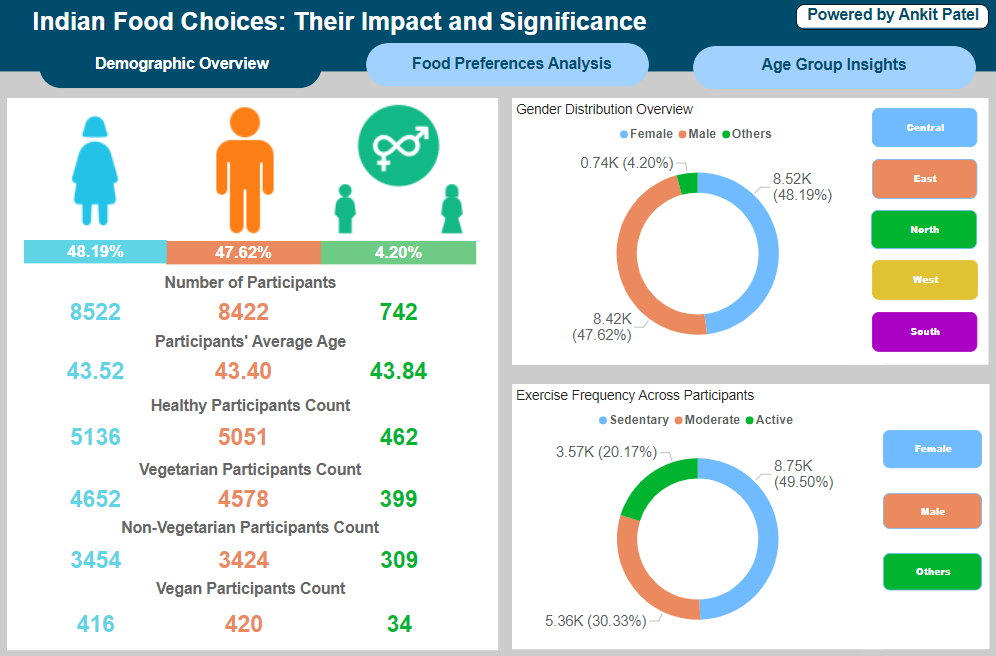

Layout of this report page (visuals, bound fields, positions):
{"tool":"powerbi","page":{"name":"Demographic Overview ","canvas":[1280,850],"ordinal":0},"visuals":[{"type":"shape","box":[1104.8,492.9,164.7,340.4],"z":0},{"type":"shape","box":[10.3,125.2,629.7,708.4],"z":1000},{"type":"shape","box":[0,0,1280,91.6],"z":2000},{"type":"actionButton","title":"Indian Food Choices: Their Impact and Significance","box":[0,8.7,873,48],"z":3000},{"type":"card","fields":{"Values":["Meausres Table.Male %"]},"box":[214.2,308.4,198.7,29.7],"z":4000},{"type":"image","box":[214.2,125.2,198.7,184.5],"z":5000},{"type":"image","box":[32.3,123.9,181.9,184.5],"z":6000},{"type":"image","box":[412.9,123.9,198.7,184.5],"z":7000},{"type":"card","fields":{"Values":["Meausres Table.Feamle %"]},"box":[32.1,307.7,182.6,30.4],"z":8000},{"type":"card","fields":{"Values":["Meausres Table.Others %"]},"box":[412.9,308.4,198.7,29.7],"z":9000},{"type":"actionButton","title":"Number of Participants","box":[33.5,351,578.1,23.2],"z":10000},{"type":"card","fields":{"Values":["Meausres Table.Total Others"]},"box":[412.9,383.2,198.7,32.3],"z":11000},{"type":"card","fields":{"Values":["Meausres Table.Total Male"]},"box":[214.2,383.2,198.7,32.3],"z":12000},{"type":"card","fields":{"Values":["Meausres Table.Total Female"]},"box":[32.3,383.2,181.9,32.3],"z":13000},{"type":"actionButton","title":"Participants'' Average Age","box":[33.5,427.1,578.1,24.5],"z":14000},{"type":"card","fields":{"Values":["Meausres Table.Average Male Age"]},"box":[213.9,458.3,198.6,34.9],"z":15000},{"type":"card","fields":{"Values":["Meausres Table.Average Others Age"]},"box":[412.5,458.3,198.6,34.9],"z":16000},{"type":"card","fields":{"Values":["Meausres Table.Average Female Age"]},"box":[33.8,458.3,180.1,34.9],"z":17000},{"type":"actionButton","title":"Healthy Participants Count","box":[33.3,508.9,577.8,24.4],"z":18000},{"type":"card","fields":{"Values":["Meausres Table.Male Healthy"]},"box":[214.7,542.8,197.8,33.8],"z":19000},{"type":"card","fields":{"Values":["Meausres Table.Female Healthy"]},"box":[32.1,542.8,182.6,33.8],"z":20000},{"type":"card","fields":{"Values":["Meausres Table.Others Healthy"]},"box":[412.6,542.8,199.5,33.8],"z":21000},{"type":"actionButton","title":"Vegetarian Participants Count","box":[32.3,591,579.4,24.5],"z":22000},{"type":"card","fields":{"Values":["Meausres Table.Female Vegetarian"]},"box":[33.8,622,180.1,33.8],"z":23000},{"type":"card","fields":{"Values":["Meausres Table.Male Vegetarian"]},"box":[213.9,622,198.6,33.8],"z":24000},{"type":"card","fields":{"Values":["Meausres Table.Others Vegetarian"]},"box":[412.5,622,198.6,33.8],"z":25000},{"type":"actionButton","title":"Non-Vegetarian Participants Count","box":[31.7,665.3,579.4,25.1],"z":26000},{"type":"card","fields":{"Values":["Meausres Table.Female Non-Vegetarian"]},"box":[33.8,698.3,180.9,38.9],"z":27000},{"type":"card","fields":{"Values":["Meausres Table.Male Non-Vegetarian"]},"box":[214.7,698.3,199.5,38.9],"z":28000},{"type":"card","fields":{"Values":["Meausres Table.Others Non-Vegetarian"]},"box":[414.3,698.3,197.8,38.9],"z":29000},{"type":"actionButton","title":"Vegan Participants Count","box":[33.8,744,578.3,25.4],"z":30000},{"type":"card","fields":{"Values":["Meausres Table.Female Vegan"]},"box":[33.8,779.5,180.9,40.6],"z":31000},{"type":"card","fields":{"Values":["Meausres Table.Male Vegan"]},"box":[214.7,779.5,199.5,40.6],"z":32000},{"type":"card","fields":{"Values":["Meausres Table.Others Vegan"]},"box":[414.3,779.5,197.8,40.6],"z":33000},{"type":"shape","box":[51.6,56.8,362.6,56.8],"z":34000},{"type":"actionButton","title":"Demographic Overview","box":[109.7,71,247.7,27.1],"z":35000},{"type":"donutChart","title":"Gender Distribution Overview","fields":{"Y":["Meausres Table.Total Female","Meausres Table.Total Male","Meausres Table.Total Others"]},"box":[658.1,125.2,476.1,341.9],"z":36000},{"type":"shape","box":[1094.2,125.2,175.5,341.9],"z":37000},{"type":"slicer","fields":{"Values":["food_impact_india.Region"]},"box":[1119.2,139.1,134.6,50.1],"z":38000},{"type":"donutChart","title":"Exercise Frequency Across Participants","fields":{"Category":["food_impact_india.Exercise_Level"],"Y":["Meausres Table.Total People"]},"box":[657.5,492.9,476.2,340.4],"z":39000},{"type":"slicer","fields":{"Values":["food_impact_india.Gender"]},"box":[1133.7,551.8,126.8,49],"z":40000},{"type":"slicer","fields":{"Values":["food_impact_india.Gender"]},"box":[1133.7,631.9,126.8,45.6],"z":41000},{"type":"slicer","fields":{"Values":["food_impact_india.Gender"]},"box":[1133.7,708.7,126.8,47.8],"z":42000},{"type":"slicer","fields":{"Values":["food_impact_india.Region"]},"box":[1119.2,203.6,134.6,51.2],"z":43000},{"type":"slicer","fields":{"Values":["food_impact_india.Region"]},"box":[1118.1,269.2,135.7,50.1],"z":44000},{"type":"slicer","fields":{"Values":["food_impact_india.Region"]},"box":[1119.2,399.4,134.6,51.2],"z":45000},{"type":"slicer","fields":{"Values":["food_impact_india.Region"]},"box":[1119.2,333.8,135.7,51.2],"z":46000},{"type":"shape","box":[470.7,55.7,362.9,55.7],"z":46001},{"type":"shape","box":[890,58.6,362.9,55.7],"z":46002},{"type":"actionButton","title":"Food Preferences Analysis","box":[527.1,70,261.4,27.1],"z":46003},{"type":"actionButton","title":"Age Group Insights","box":[940,71.4,261.4,27.1],"z":46004},{"type":"actionButton","title":"Powered by Ankit Patel","box":[1021.4,5.7,247.1,32.9],"z":46005}]}

Visuals, with their boxes in screenshot pixels (x1, y1, x2, y2), scaled from the page's 1280x850 canvas onto the 996x656 screenshot:
shape: (860,380,988,643)
shape: (8,97,498,643)
shape: (0,0,995,71)
"Indian Food Choices: Their Impact and Significance" actionButton: (0,7,679,44)
card - Meausres Table.Male %: (167,238,321,261)
image: (167,97,321,239)
image: (25,96,167,238)
image: (321,96,476,238)
card - Meausres Table.Feamle %: (25,237,167,261)
card - Meausres Table.Others %: (321,238,476,261)
"Number of Participants" actionButton: (26,271,476,289)
card - Meausres Table.Total Others: (321,296,476,321)
card - Meausres Table.Total Male: (167,296,321,321)
card - Meausres Table.Total Female: (25,296,167,321)
"Participants'' Average Age" actionButton: (26,330,476,349)
card - Meausres Table.Average Male Age: (166,354,321,381)
card - Meausres Table.Average Others Age: (321,354,476,381)
card - Meausres Table.Average Female Age: (26,354,166,381)
"Healthy Participants Count" actionButton: (26,393,476,412)
card - Meausres Table.Male Healthy: (167,419,321,445)
card - Meausres Table.Female Healthy: (25,419,167,445)
card - Meausres Table.Others Healthy: (321,419,476,445)
"Vegetarian Participants Count" actionButton: (25,456,476,475)
card - Meausres Table.Female Vegetarian: (26,480,166,506)
card - Meausres Table.Male Vegetarian: (166,480,321,506)
card - Meausres Table.Others Vegetarian: (321,480,476,506)
"Non-Vegetarian Participants Count" actionButton: (25,513,476,533)
card - Meausres Table.Female Non-Vegetarian: (26,539,167,569)
card - Meausres Table.Male Non-Vegetarian: (167,539,322,569)
card - Meausres Table.Others Non-Vegetarian: (322,539,476,569)
"Vegan Participants Count" actionButton: (26,574,476,594)
card - Meausres Table.Female Vegan: (26,602,167,633)
card - Meausres Table.Male Vegan: (167,602,322,633)
card - Meausres Table.Others Vegan: (322,602,476,633)
shape: (40,44,322,88)
"Demographic Overview" actionButton: (85,55,278,76)
"Gender Distribution Overview" donutChart: (512,97,883,360)
shape: (851,97,988,360)
slicer - food_impact_india.Region: (871,107,976,146)
"Exercise Frequency Across Participants" donutChart: (512,380,882,643)
slicer - food_impact_india.Gender: (882,426,981,464)
slicer - food_impact_india.Gender: (882,488,981,523)
slicer - food_impact_india.Gender: (882,547,981,584)
slicer - food_impact_india.Region: (871,157,976,197)
slicer - food_impact_india.Region: (870,208,976,246)
slicer - food_impact_india.Region: (871,308,976,348)
slicer - food_impact_india.Region: (871,258,976,297)
shape: (366,43,649,86)
shape: (693,45,975,88)
"Food Preferences Analysis" actionButton: (410,54,614,75)
"Age Group Insights" actionButton: (731,55,935,76)
"Powered by Ankit Patel" actionButton: (795,4,987,30)
